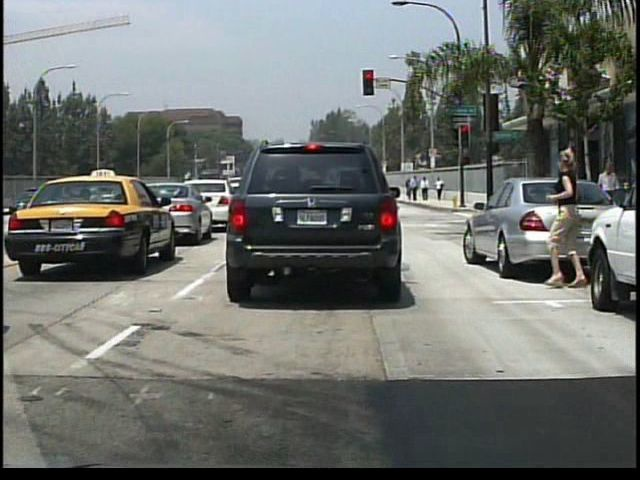person: (541, 144, 594, 293), (593, 161, 620, 235), (435, 176, 446, 202), (409, 175, 419, 202), (420, 176, 429, 202), (405, 178, 413, 200)
